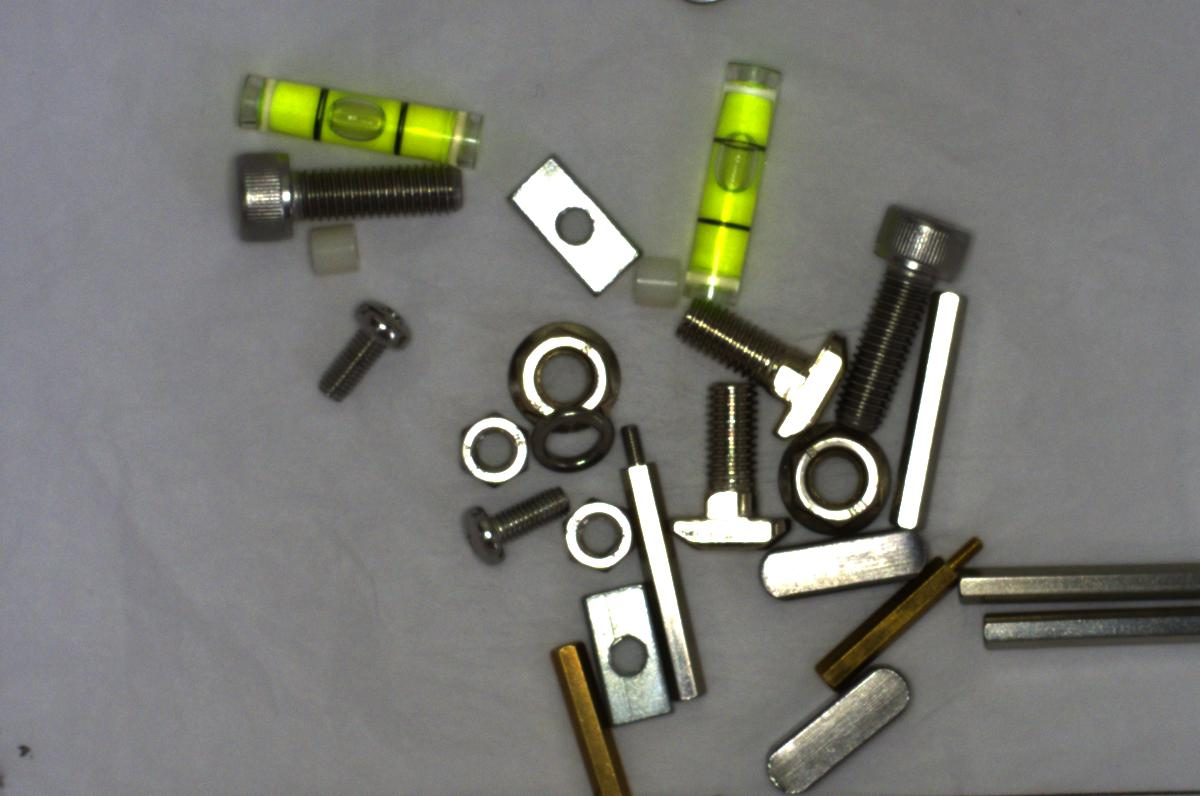Double hexagonal column: (894, 282, 973, 544), (962, 609, 1196, 658)
Flange nut: (758, 414, 889, 541), (497, 313, 616, 427)
Hexagon nut: (558, 492, 634, 576), (447, 409, 528, 487)
Hexagon pillar: (802, 515, 989, 674), (541, 632, 642, 795)
Hexagon screw: (817, 200, 975, 433), (215, 144, 479, 255)
Hexagonal steel column: (619, 417, 701, 709)
Horizontal bubble: (214, 67, 488, 173), (682, 54, 787, 306)
Keybar: (766, 659, 925, 795), (757, 524, 938, 603)
Plastic cushion pillar: (298, 218, 371, 282), (629, 248, 691, 313)
Rectangular nut: (510, 155, 643, 296), (578, 581, 675, 727)
Round head screw: (314, 295, 412, 408), (453, 489, 574, 565)
Spring washer: (521, 408, 617, 474)
T-shaped screw: (661, 290, 848, 436), (660, 368, 793, 548)
